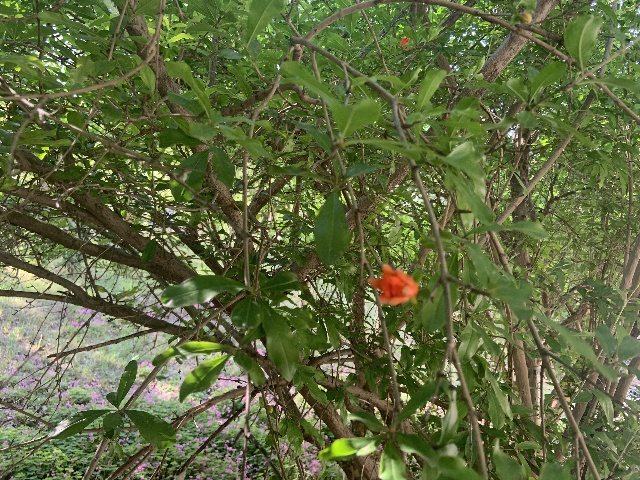flower: (368, 264, 419, 306), (400, 36, 410, 49)
